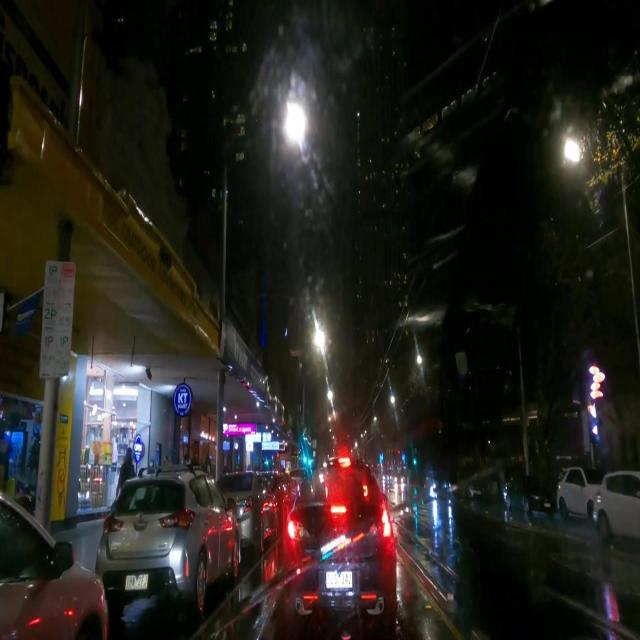Car: (98, 476, 239, 605), (285, 474, 398, 626)
